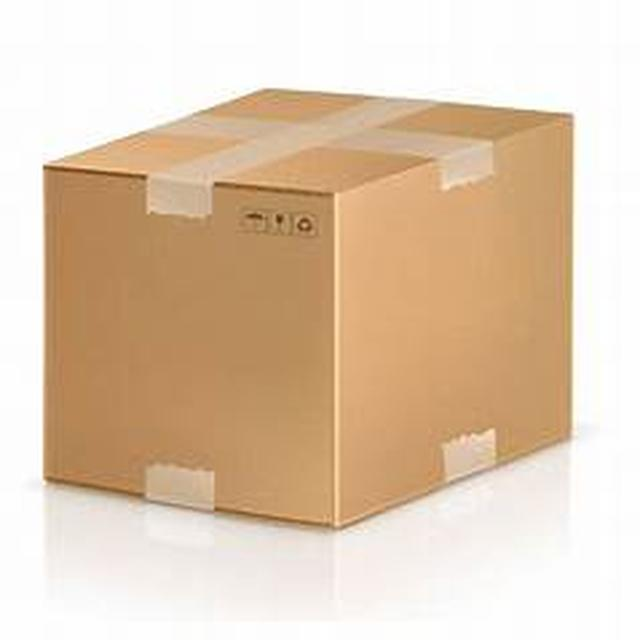box: (27, 72, 590, 543)
